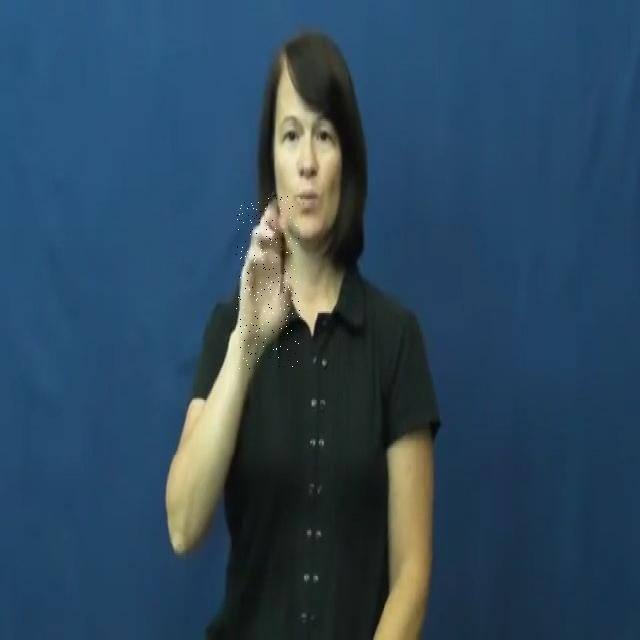refill: (236, 196, 300, 370)
